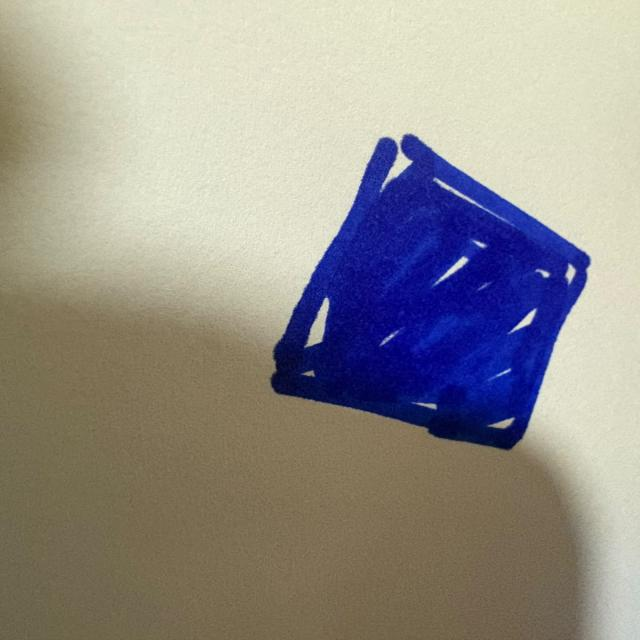Square: (271, 139, 589, 450)
